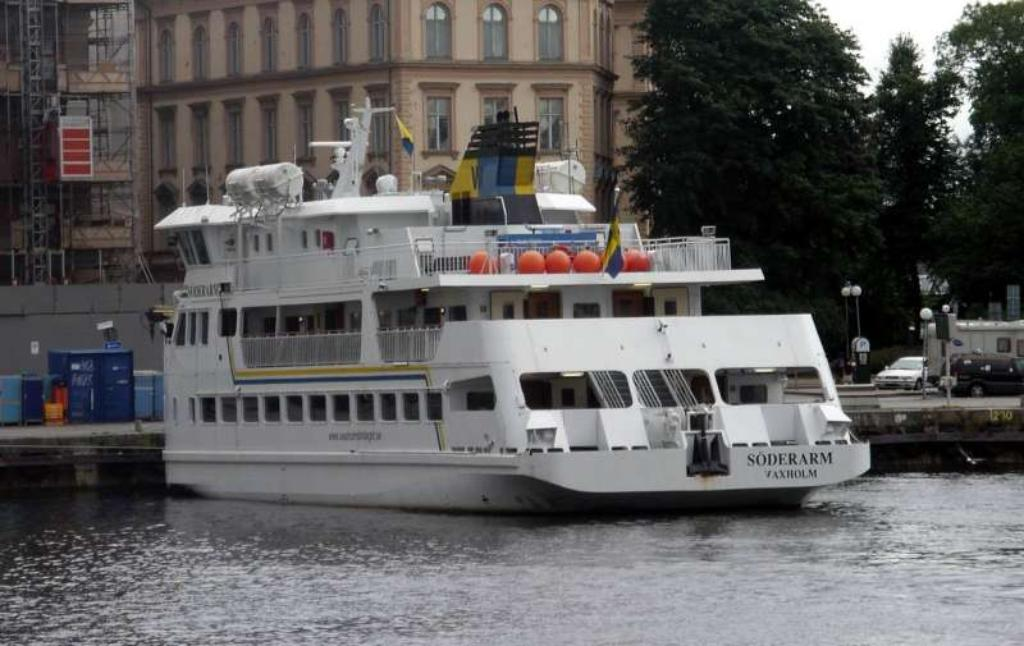PassengerShip: (144, 96, 880, 518)
